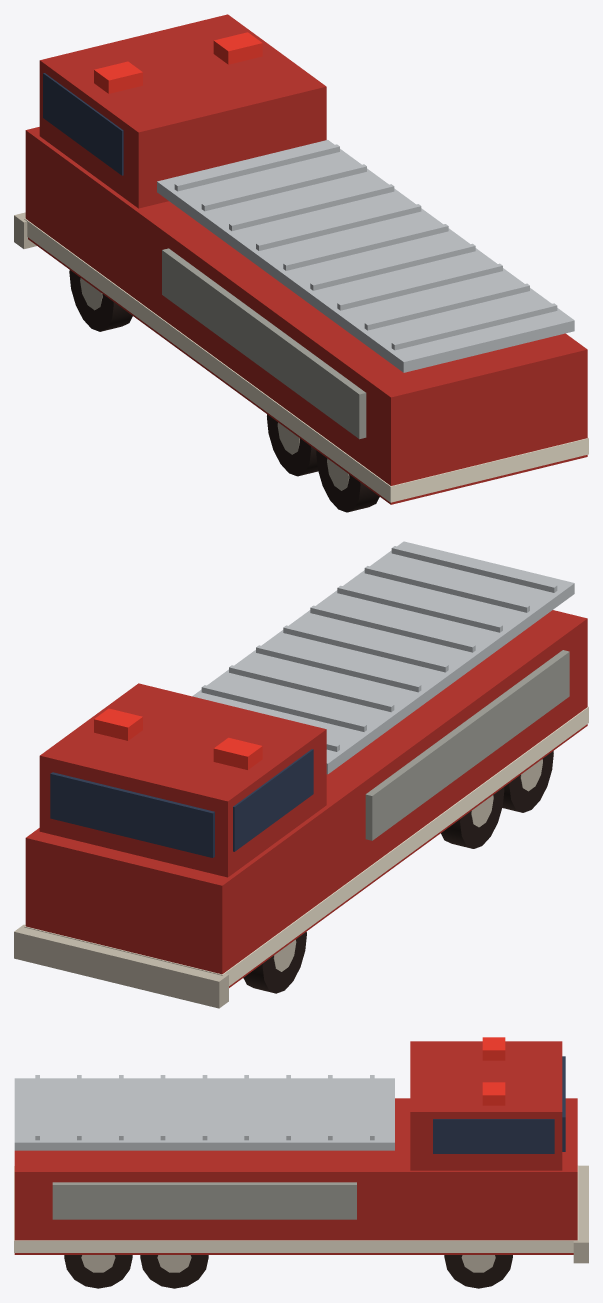
Rendered from fire_engine_1.glb.
3 views of the same model, one above another, from view 1: azimuth 30°, elevation 25°; view 2: azimuth 150°, elevation 25°; view 3: azimuth 270°, elevation 25° (orthographic). The views are drawn at different scales.
Visible parts, largest first — view 1: Box1, Box6, Box3, Box17, Box2, Box4, Part6, Part2, Part4, Box7, Box8, Box14 (+8 smaller); view 2: Box1, Box6, Box3, Box17, Box5, Box18, Box2, Box4, Part6, Part4, Part2, Box7 (+9 smaller); view 3: Box1, Box6, Box3, Box16, Box2, Box4, Part1, Part5, Part3, Box18, Box19, Box20 (+3 smaller).
Part boxes in pixels (x1=…): Box1: x1=25, y1=127, x2=587, y2=504; Box6: x1=157, y1=140, x2=574, y2=372; Box3: x1=39, y1=14, x2=326, y2=208; Box17: x1=162, y1=248, x2=366, y2=439; Box2: x1=24, y1=218, x2=588, y2=502; Box4: x1=43, y1=73, x2=123, y2=175; Part6: x1=69, y1=270, x2=132, y2=331; Part2: x1=316, y1=450, x2=379, y2=512; Part4: x1=267, y1=414, x2=317, y2=476; Box7: x1=391, y1=303, x2=557, y2=350; Box8: x1=364, y1=283, x2=529, y2=330; Box14: x1=201, y1=164, x2=366, y2=211; Box1: x1=25, y1=610, x2=587, y2=987; Box6: x1=192, y1=541, x2=574, y2=774; Box3: x1=39, y1=683, x2=326, y2=877; Box17: x1=365, y1=650, x2=569, y2=840; Box5: x1=50, y1=772, x2=214, y2=857; Box18: x1=14, y1=924, x2=228, y2=1008; Box2: x1=24, y1=706, x2=588, y2=985; Box4: x1=233, y1=749, x2=313, y2=851; Part6: x1=243, y1=932, x2=306, y2=993; Part4: x1=441, y1=787, x2=504, y2=848; Part2: x1=502, y1=751, x2=553, y2=812; Box7: x1=391, y1=546, x2=557, y2=592; Box1: x1=14, y1=1098, x2=577, y2=1254; Box6: x1=14, y1=1078, x2=394, y2=1150; Box3: x1=410, y1=1041, x2=562, y2=1170; Box16: x1=52, y1=1182, x2=356, y2=1219; Box2: x1=14, y1=1166, x2=578, y2=1252; Box4: x1=433, y1=1119, x2=554, y2=1153; Part1: x1=64, y1=1255, x2=132, y2=1288; Part5: x1=444, y1=1255, x2=512, y2=1288; Part3: x1=140, y1=1255, x2=208, y2=1288; Box18: x1=573, y1=1165, x2=588, y2=1263; Box19: x1=482, y1=1082, x2=505, y2=1105; Box20: x1=482, y1=1037, x2=505, y2=1060.
Size of the model in its own units: 2.46 by 2.7 by 7.56.
